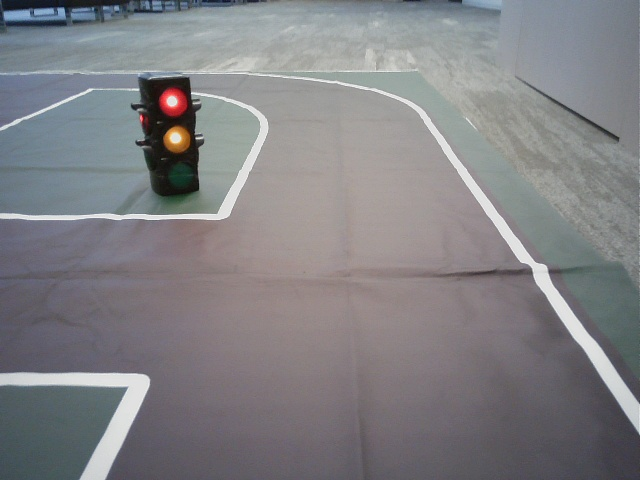red: (153, 78, 196, 190)
